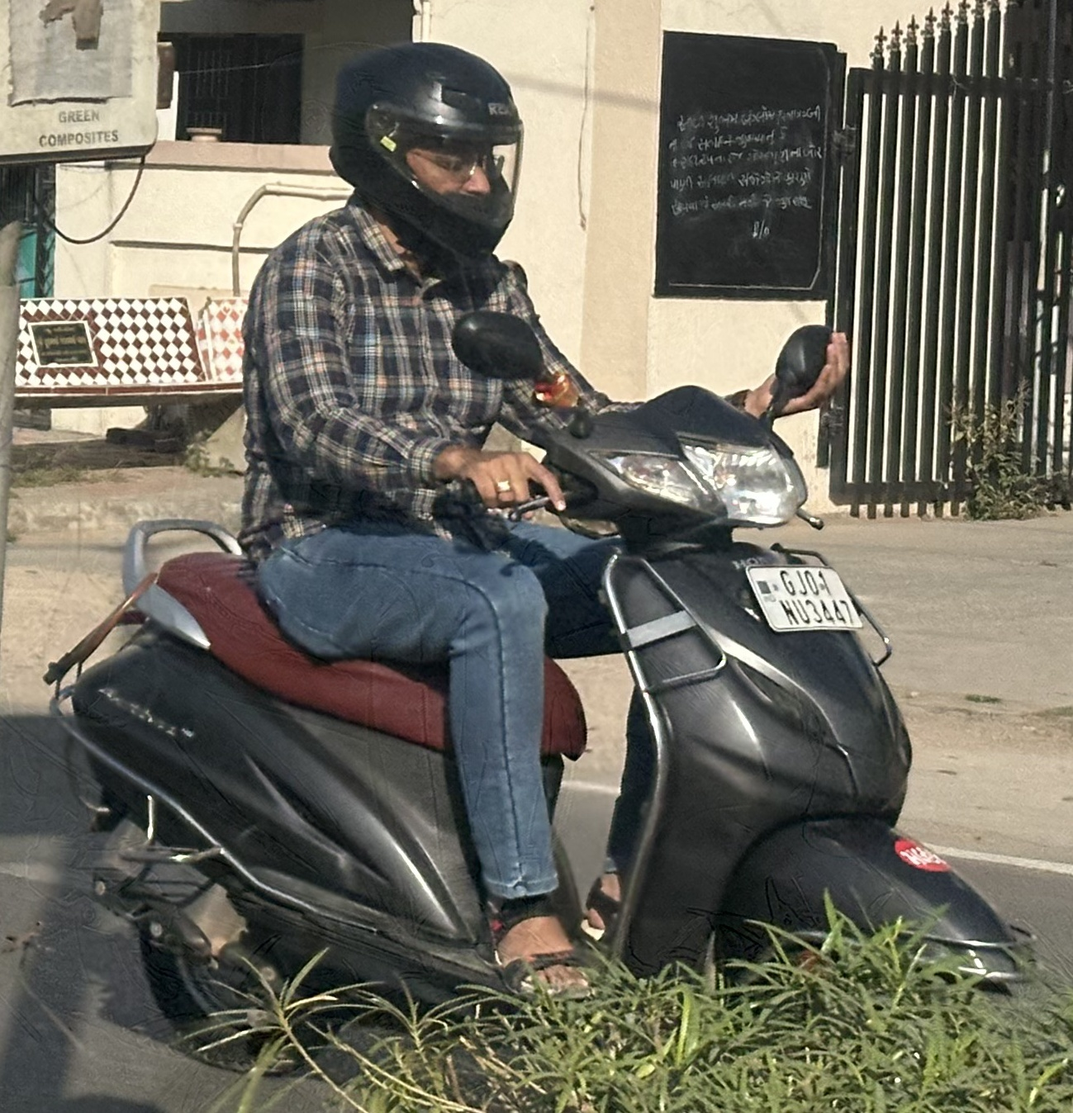BikeWithRider: (46, 38, 1053, 1044)
Helmet: (315, 35, 531, 263)
